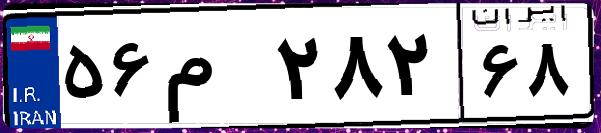2: (270, 28, 330, 110), (385, 28, 445, 110)
5: (57, 26, 110, 100)
6: (475, 38, 525, 113), (110, 28, 158, 98)
8: (330, 28, 385, 110), (525, 38, 570, 115)
م: (158, 20, 270, 120)
